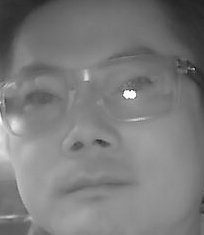eye: (25, 88, 60, 107)
glass: (91, 55, 184, 122), (1, 67, 75, 136)
mouth: (60, 171, 130, 206)
